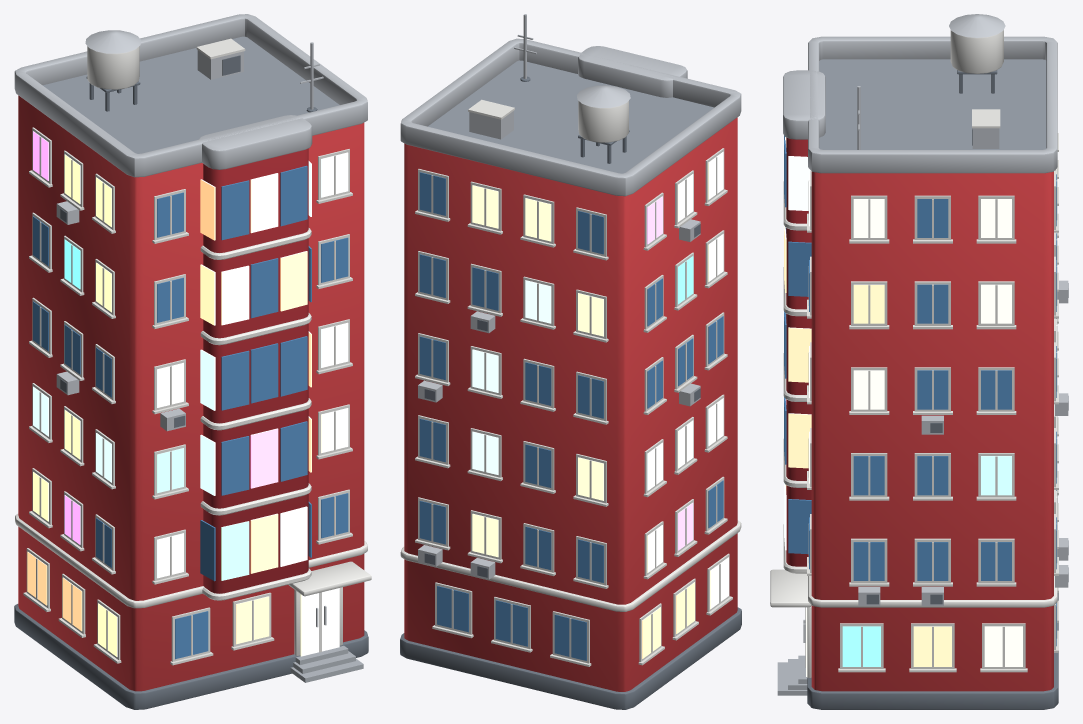
File: apto_baia_vermelho.glb
The picture shows the model from 3 angles, left to right: view 1: azimuth 30°, elevation 25°; view 2: azimuth 150°, elevation 25°; view 3: azimuth 270°, elevation 25°; orthographic projection. The views are drawn at different scales.
Visible parts, largest first — view 1: apto_baia_vermelho; view 2: apto_baia_vermelho; view 3: apto_baia_vermelho.
Part boxes in pixels (box(x1,y1,x2,y2)): apto_baia_vermelho: box(14, 14, 371, 709); apto_baia_vermelho: box(400, 14, 741, 709); apto_baia_vermelho: box(770, 14, 1068, 709).
Size of the model in its own units: 10.19 by 22.65 by 10.09.
Materials: 8 (1 with a texture image).
